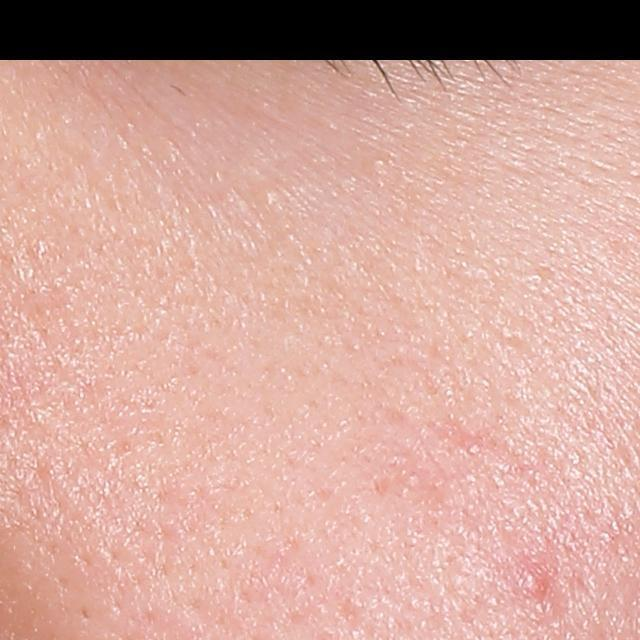papule: (517, 566, 549, 603)
